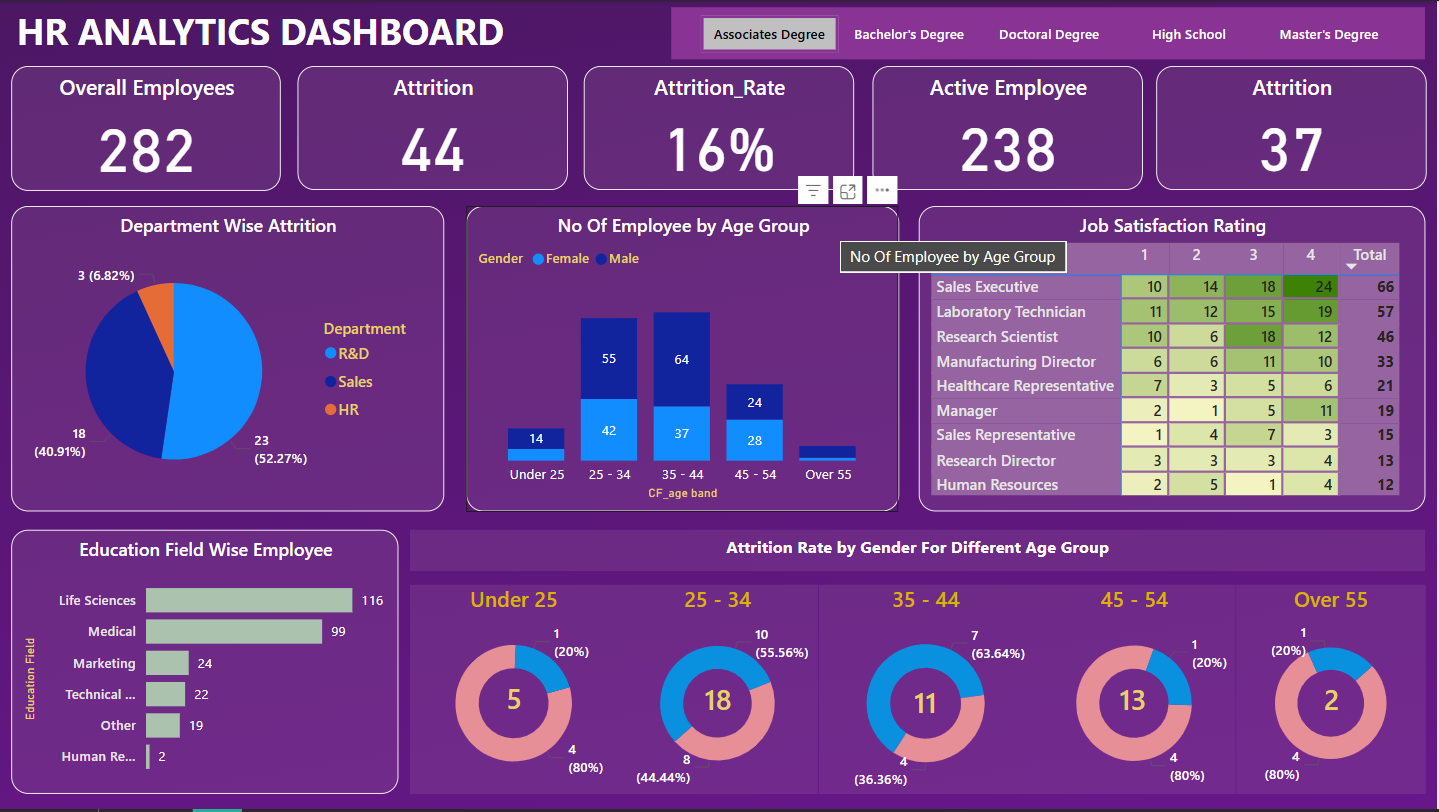

Layout of this report page (visuals, bound fields, positions):
{"tool":"powerbi","page":{"name":"Page 1","canvas":[1280,720],"ordinal":0},"visuals":[{"type":"card","title":"Overall Employees","fields":{"Values":["Sum(HR data.Employee Count)"]},"box":[9.6,57.6,240.1,111.1],"z":0},{"type":"card","title":"Attrition","fields":{"Values":["Sum(HR data.Attrition Count)"]},"box":[265,57.7,240.5,110.4],"z":1000},{"type":"card","title":"Attrition_Rate","fields":{"Values":["HR data.Attrition _ rate"]},"box":[520.2,57.7,240.5,110.4],"z":2000},{"type":"card","title":"Active Employee","fields":{"Values":["HR data.AE"]},"box":[776.7,57.7,240.5,110.4],"z":3000},{"type":"card","title":"Average Age","fields":{"Values":["Avg(HR data.Age)"]},"box":[1029.5,57.7,240.5,110.4],"z":4000},{"type":"pieChart","title":"Department Wise Attrition","fields":{"Category":["HR data.Department"],"Y":["Sum(HR data.Attrition Count)"]},"box":[9.8,182.8,385.3,272.4],"z":5000},{"type":"columnChart","title":"No Of Employee by Age Group","fields":{"Category":["HR data.CF_age band"],"Y":["Sum(HR data.Employee Count)"],"Series":["HR data.Gender"]},"box":[414.7,182.8,385.3,272.4],"z":6000},{"type":"pivotTable","title":"Job Satisfaction Rating","fields":{"Rows":["HR data.Job Role"],"Columns":["HR data.Job Satisfaction"],"Values":["Sum(HR data.Employee Count)"]},"box":[818.4,182.8,451.5,272.4],"z":7000},{"type":"barChart","title":"Education Field Wise Employee","fields":{"Category":["HR data.Education Field"],"Y":["Sum(HR data.Employee Count)"]},"box":[9.8,471.2,345,235.6],"z":8000},{"type":"donutChart","title":"Under 25","fields":{"Category":["HR data.Gender"],"Y":["Sum(HR data.Attrition Count)"],"Series":["HR data.CF_age band"]},"box":[365,520.1,185,186.6],"z":9000},{"type":"textbox","box":[365,470.7,904.3,37],"z":10000},{"type":"donutChart","title":"25 - 34","fields":{"Category":["HR data.Gender"],"Y":["Sum(HR data.Attrition Count)"],"Series":["HR data.CF_age band"]},"box":[550.3,520.1,178.4,186.6],"z":11000},{"type":"donutChart","title":"35 - 44","fields":{"Category":["HR data.Gender"],"Y":["Sum(HR data.Attrition Count)"],"Series":["HR data.CF_age band"]},"box":[728.6,520.1,190.7,186.6],"z":12000},{"type":"donutChart","title":"45 - 54","fields":{"Category":["HR data.Gender"],"Y":["Sum(HR data.Attrition Count)"],"Series":["HR data.CF_age band"]},"box":[919.4,520.1,181.1,186.6],"z":13000},{"type":"donutChart","title":"Over 55","fields":{"Category":["HR data.Gender"],"Y":["Sum(HR data.Attrition Count)"],"Series":["HR data.CF_age band"]},"box":[1100.5,520.1,168.8,186.6],"z":14000},{"type":"card","fields":{"Values":["Sum(HR data.Attrition Count)"]},"box":[433.6,602.4,48,39.8],"z":15000},{"type":"card","fields":{"Values":["Sum(HR data.Attrition Count)"]},"box":[800,605.1,48,39.8],"z":16000},{"type":"card","fields":{"Values":["Sum(HR data.Attrition Count)"]},"box":[616.1,603.8,48,39.8],"z":17000},{"type":"card","fields":{"Values":["Sum(HR data.Attrition Count)"]},"box":[1162.3,603.8,48,39.8],"z":18000},{"type":"card","fields":{"Values":["Sum(HR data.Attrition Count)"]},"box":[985.3,603.8,48,39.8],"z":19000},{"type":"textbox","box":[9.6,0,526.9,57.6],"z":20000},{"type":"slicer","fields":{"Values":["HR data.Education"]},"box":[598.3,5.5,671,46.7],"z":21000}]}

Visuals, with their boxes in screenshot pixels (x1, y1, x2, y2), scaled from the page's 1280x720 canvas onto the 1439x812 screenshot:
"Overall Employees" card: {"left": 11, "top": 65, "right": 281, "bottom": 190}
"Attrition" card: {"left": 298, "top": 65, "right": 568, "bottom": 190}
"Attrition_Rate" card: {"left": 585, "top": 65, "right": 855, "bottom": 190}
"Active Employee" card: {"left": 873, "top": 65, "right": 1144, "bottom": 190}
"Average Age" card: {"left": 1157, "top": 65, "right": 1428, "bottom": 190}
"Department Wise Attrition" pieChart: {"left": 11, "top": 206, "right": 444, "bottom": 513}
"No Of Employee by Age Group" columnChart: {"left": 466, "top": 206, "right": 899, "bottom": 513}
"Job Satisfaction Rating" pivotTable: {"left": 920, "top": 206, "right": 1428, "bottom": 513}
"Education Field Wise Employee" barChart: {"left": 11, "top": 531, "right": 399, "bottom": 797}
"Under 25" donutChart: {"left": 410, "top": 587, "right": 618, "bottom": 797}
textbox: {"left": 410, "top": 531, "right": 1427, "bottom": 573}
"25 - 34" donutChart: {"left": 619, "top": 587, "right": 819, "bottom": 797}
"35 - 44" donutChart: {"left": 819, "top": 587, "right": 1033, "bottom": 797}
"45 - 54" donutChart: {"left": 1034, "top": 587, "right": 1237, "bottom": 797}
"Over 55" donutChart: {"left": 1237, "top": 587, "right": 1427, "bottom": 797}
card - Sum(HR data.Attrition Count): {"left": 487, "top": 679, "right": 541, "bottom": 724}
card - Sum(HR data.Attrition Count): {"left": 899, "top": 682, "right": 953, "bottom": 727}
card - Sum(HR data.Attrition Count): {"left": 693, "top": 681, "right": 747, "bottom": 726}
card - Sum(HR data.Attrition Count): {"left": 1307, "top": 681, "right": 1361, "bottom": 726}
card - Sum(HR data.Attrition Count): {"left": 1108, "top": 681, "right": 1162, "bottom": 726}
textbox: {"left": 11, "top": 0, "right": 603, "bottom": 65}
slicer - HR data.Education: {"left": 673, "top": 6, "right": 1427, "bottom": 59}
